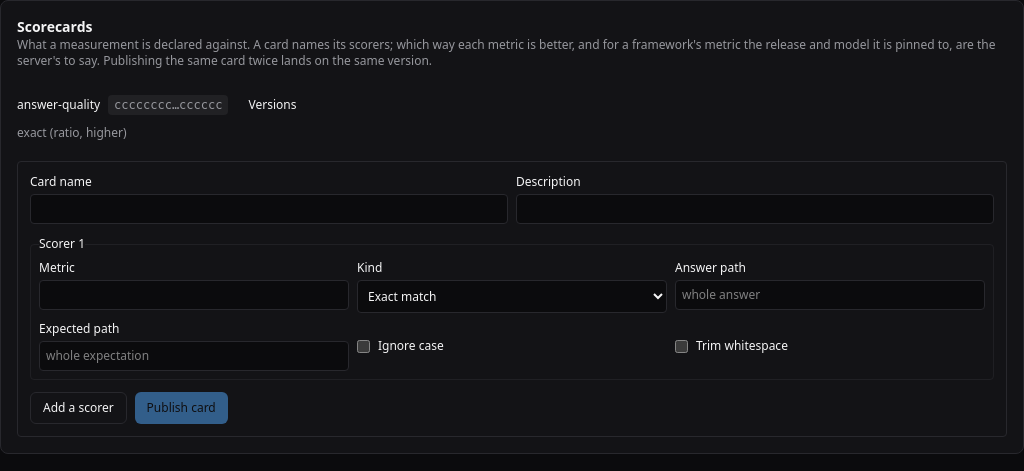
Test: says which variable is missing when no scorer service has described itself
Select "A framework's metric" in the dropdown named "Scorer 1 kind": (512, 296) [357,280,667,313]
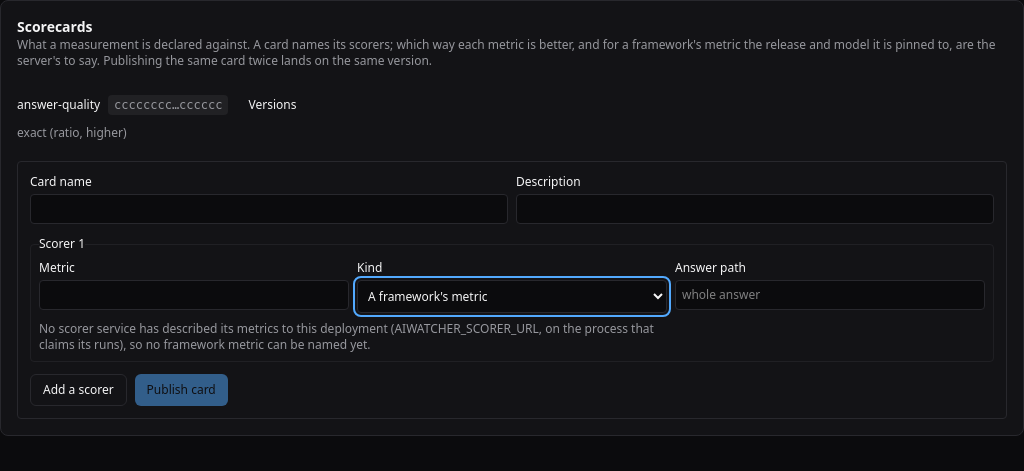
Check: the text "AIWATCHER_SCORER_URL" is shown, box [39,320,654,353]
